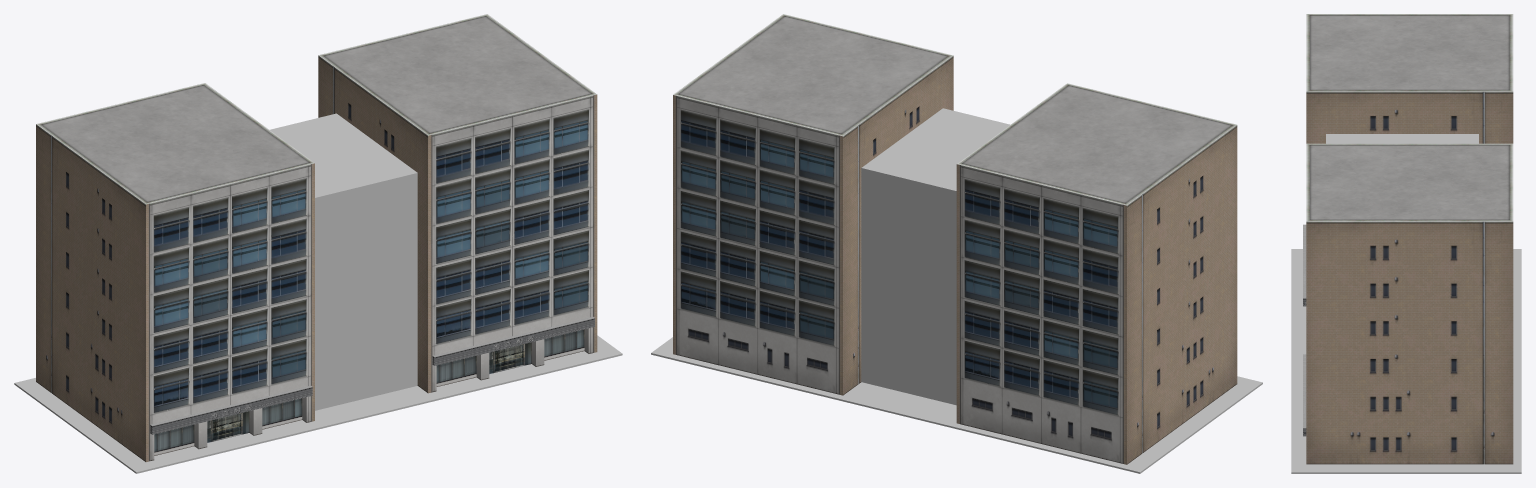
Rendered from Hospital.fbx.
3 renders of one model, left to right at view 1: azimuth 30°, elevation 25°; view 2: azimuth 150°, elevation 25°; view 3: azimuth 270°, elevation 25°, orthographic. The views are drawn at different scales.
Visible parts, largest first — view 1: 100_Hospital, 101_Hospital_1F.001, 101_Hospital_1F, 100_Hospital.001, 200_Hospital_center, 000_Site_Hpspital; view 2: 100_Hospital, 100_Hospital.001, 200_Hospital_center, 000_Site_Hpspital; view 3: 100_Hospital.001, 100_Hospital, 000_Site_Hpspital, 200_Hospital_center.
Part boxes in pixels (x1,y1,x2,y2): 100_Hospital: (36, 83, 314, 461); 101_Hospital_1F.001: (428, 94, 597, 393); 101_Hospital_1F: (146, 163, 314, 461); 100_Hospital.001: (318, 14, 596, 392); 200_Hospital_center: (270, 113, 417, 410); 000_Site_Hpspital: (14, 335, 622, 473); 100_Hospital: (956, 83, 1237, 464); 100_Hospital.001: (673, 14, 953, 395); 200_Hospital_center: (861, 108, 1010, 405); 000_Site_Hpspital: (651, 337, 1262, 473); 100_Hospital.001: (1303, 143, 1513, 464); 100_Hospital: (1303, 14, 1513, 306); 000_Site_Hpspital: (1291, 249, 1521, 473); 200_Hospital_center: (1326, 134, 1478, 143).
Size of the model in its own units: 46 by 23.45 by 20.
